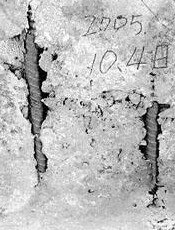Exposed reinforcement: (22, 31, 46, 174), (146, 102, 160, 184)
Spalling: (60, 78, 144, 208), (2, 1, 59, 189), (135, 100, 175, 230)
